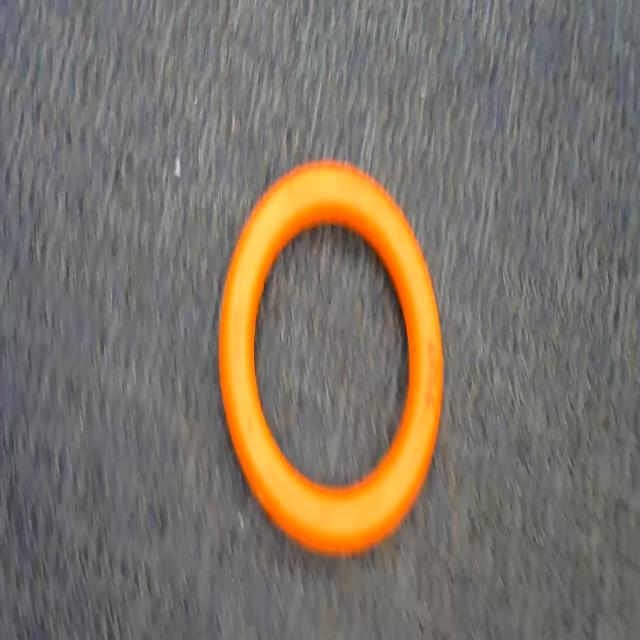note: (214, 145, 456, 575)
